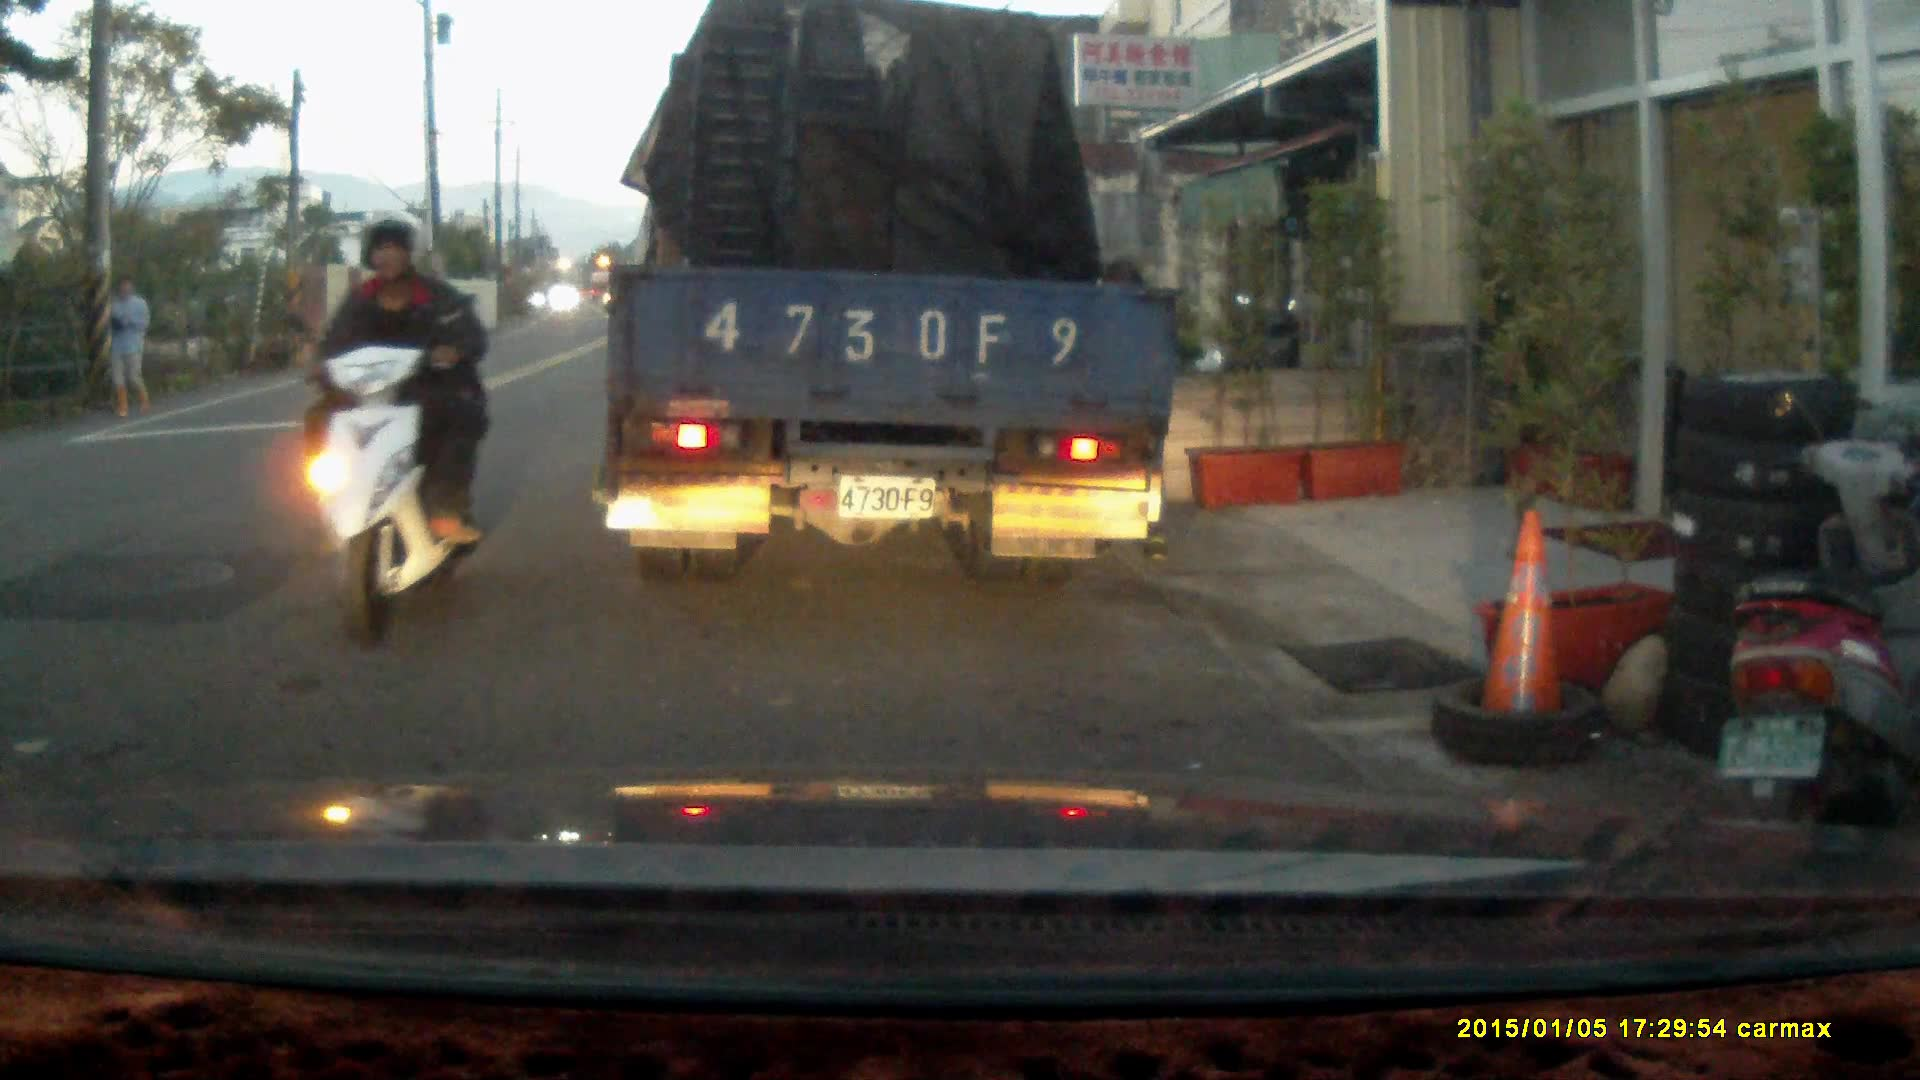pedestrian: (102, 271, 154, 420)
rider: (272, 204, 493, 652)
vehicle: (601, 23, 1187, 572)
